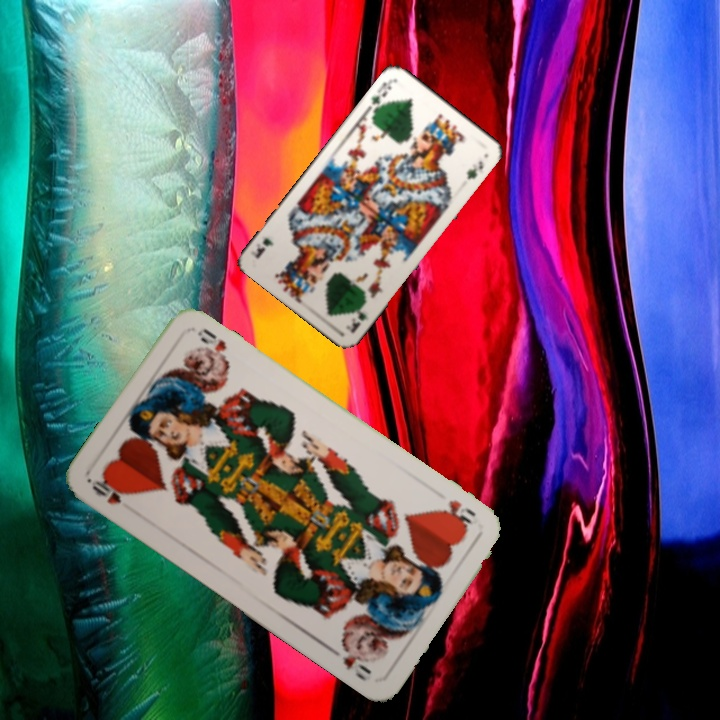GK: (364, 77, 395, 115), (342, 297, 371, 336)
HO: (434, 495, 479, 532), (87, 476, 131, 507)
